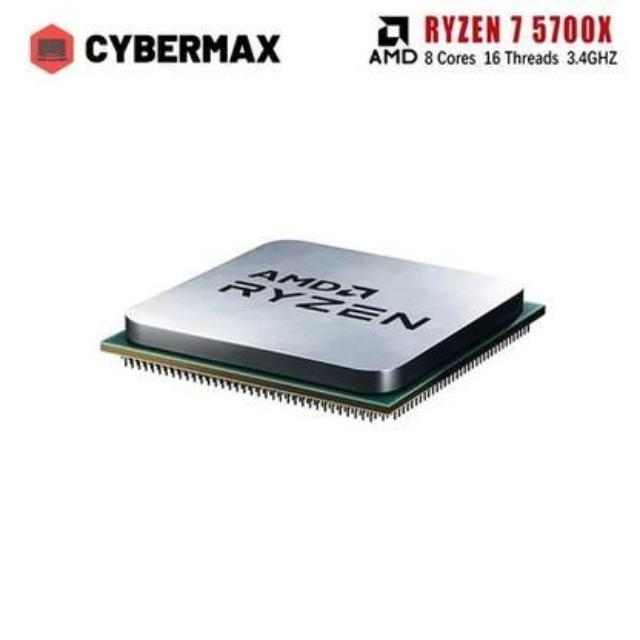CPU: (97, 238, 548, 428)
